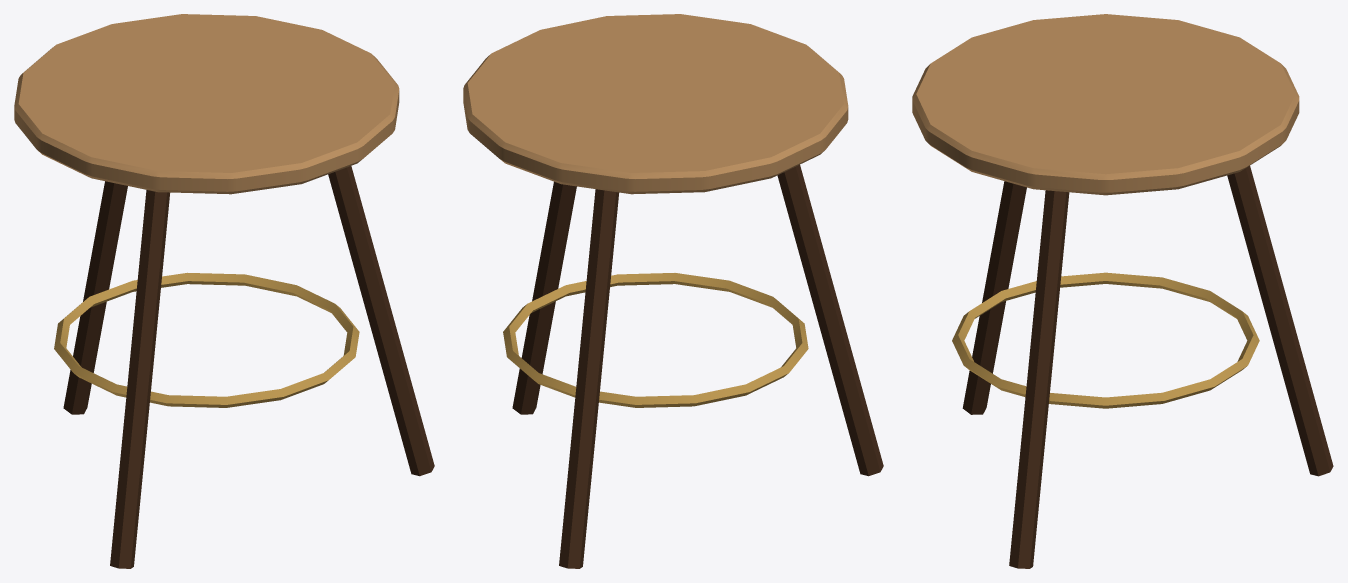
The model's file is table_side_table.glb.
The picture shows the model from 3 angles, left to right: view 1: azimuth 30°, elevation 25°; view 2: azimuth 150°, elevation 25°; view 3: azimuth 270°, elevation 25°; orthographic projection.
Parts seen in each view (by area): view 1: table_side_table; view 2: table_side_table; view 3: table_side_table.
Boxes of the visible parts, x1,y1,x2,y2 form: table_side_table: (14, 14, 434, 568); table_side_table: (463, 14, 883, 568); table_side_table: (912, 14, 1333, 568).
Bounding box in the file's own units: 0.5217 × 0.5539 × 0.5417.
